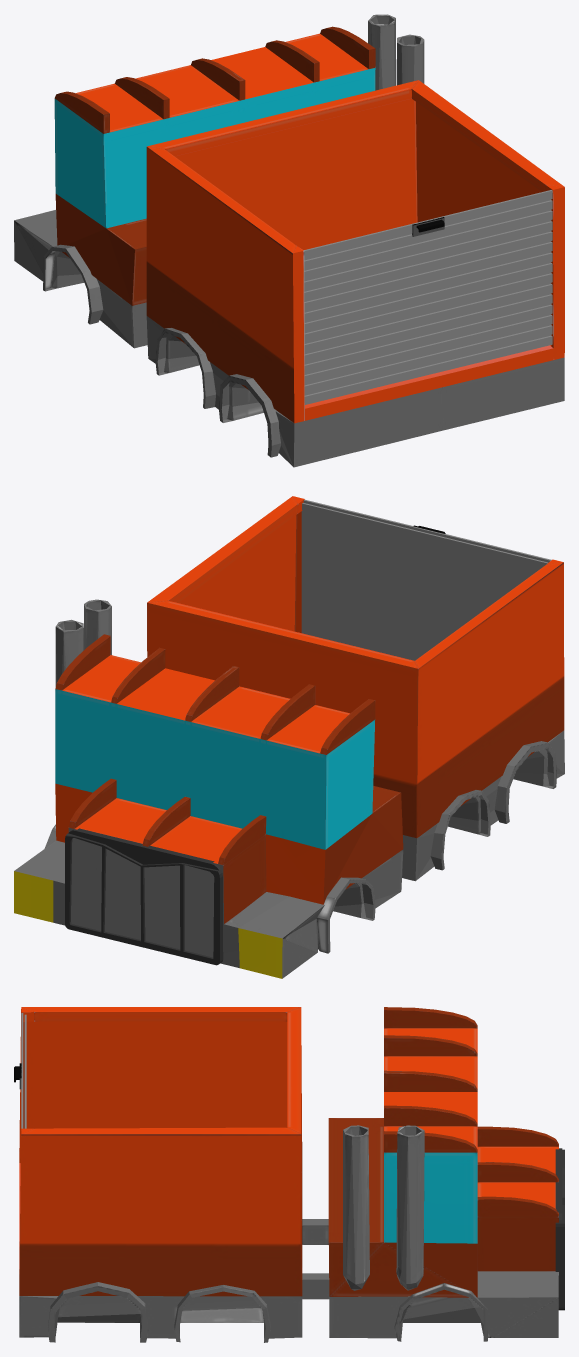
File: Grua_Carroceria.fbx
3 views of the same model, one above another, from view 1: azimuth 30°, elevation 25°; view 2: azimuth 150°, elevation 25°; view 3: azimuth 270°, elevation 25° (orthographic). The views are drawn at different scales.
Parts seen in each view (by area): view 1: Cube.030; view 2: Cube.030; view 3: Cube.030.
Boxes of the visible parts, bbox=[...] form: Cube.030: bbox=[14, 14, 564, 467]; Cube.030: bbox=[14, 496, 564, 978]; Cube.030: bbox=[14, 1007, 564, 1342].
Bounding box in the file's own units: 8.52 × 5.92 × 13.58.
Materials: 1 (1 with a texture image).
